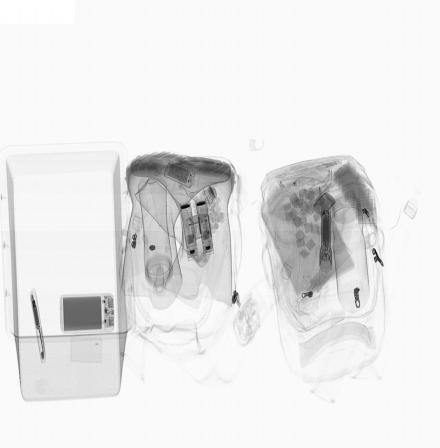Powerbank: (60, 294, 115, 334)
